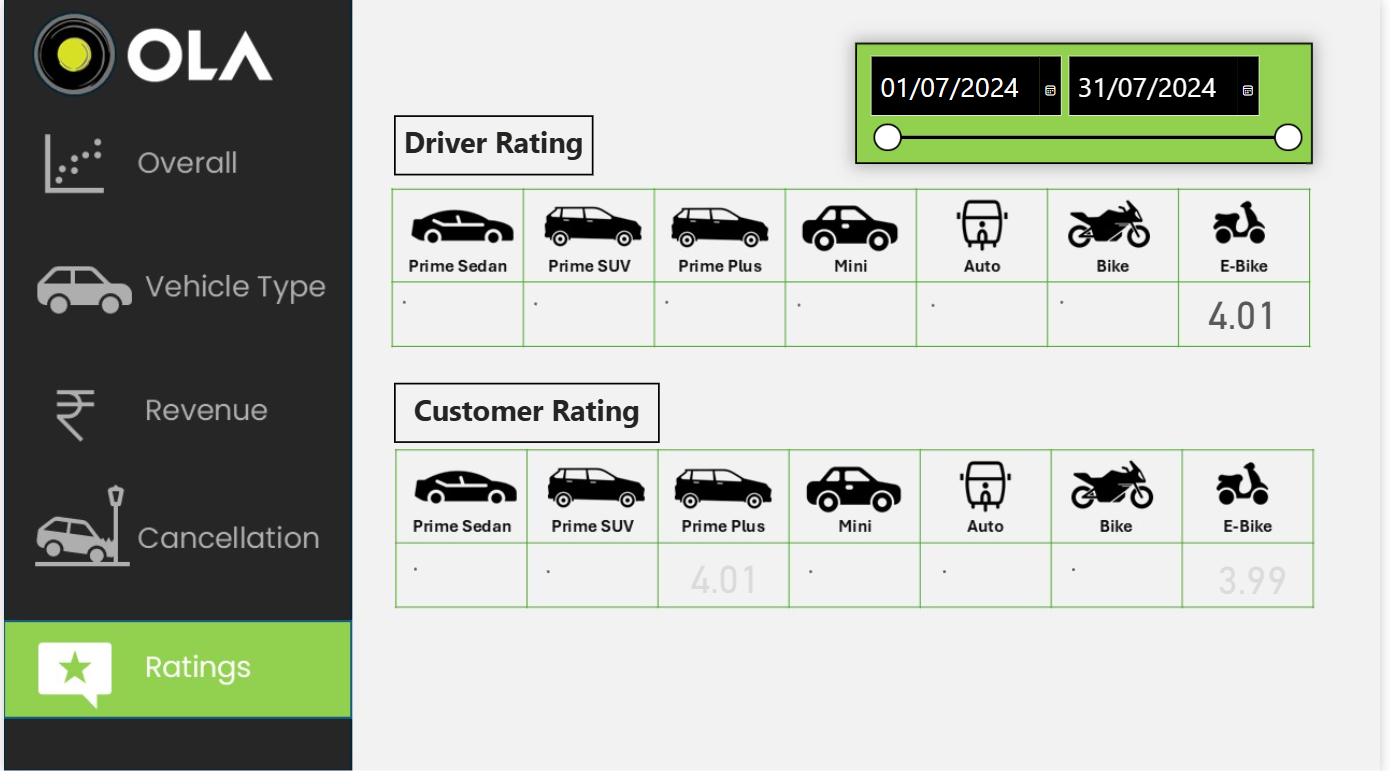

The dashboard page shown, as its layout file describes it:
{"tool":"powerbi","page":{"name":"Ratings","canvas":[1280,720],"ordinal":4},"visuals":[{"type":"actionButton","box":[1.1,108,323.9,92.4],"z":0},{"type":"actionButton","box":[0,221.5,323.9,92.4],"z":1000},{"type":"actionButton","box":[0,338.4,323.9,92.4],"z":2000},{"type":"actionButton","box":[0,447.5,323.9,92.4],"z":3000},{"type":"card","fields":{"Values":["Avg(July.Driver_Ratings)"]},"box":[365,267.6,104.3,45.3],"z":4000},{"type":"card","fields":{"Values":["Avg(July.Driver_Ratings)"]},"box":[487.1,269,104.3,45.3],"z":5000},{"type":"card","fields":{"Values":["Avg(July.Driver_Ratings)"]},"box":[609.3,267.6,104.3,45.3],"z":6000},{"type":"card","fields":{"Values":["Avg(July.Driver_Ratings)"]},"box":[731.4,269,104.3,45.3],"z":7000},{"type":"card","fields":{"Values":["Avg(July.Driver_Ratings)"]},"box":[856.3,269,104.3,45.3],"z":8000},{"type":"card","fields":{"Values":["Avg(July.Driver_Ratings)"]},"box":[977,267.6,104.3,45.3],"z":9000},{"type":"card","fields":{"Values":["Avg(July.Driver_Ratings)"]},"box":[1100.5,269,104.3,45.3],"z":10000},{"type":"card","fields":{"Values":["Avg(July.Customer_Rating)"]},"box":[373.9,513.6,104.3,45.3],"z":10001},{"type":"card","fields":{"Values":["Avg(July.Customer_Rating)"]},"box":[496,515,104.3,45.3],"z":10002},{"type":"card","fields":{"Values":["Avg(July.Customer_Rating)"]},"box":[618.2,513.6,104.3,45.3],"z":10003},{"type":"card","fields":{"Values":["Avg(July.Customer_Rating)"]},"box":[740.3,515,104.3,45.3],"z":10004},{"type":"card","fields":{"Values":["Avg(July.Customer_Rating)"]},"box":[865.2,515,104.3,45.3],"z":10005},{"type":"card","fields":{"Values":["Avg(July.Customer_Rating)"]},"box":[985.9,513.6,104.3,45.3],"z":10006},{"type":"card","fields":{"Values":["Avg(July.Customer_Rating)"]},"box":[1109.4,515,104.3,45.3],"z":10007},{"type":"textbox","box":[362.3,108.4,185.2,56.3],"z":10008},{"type":"textbox","box":[362.3,356.8,247,56.3],"z":10009},{"type":"slicer","title":"Date","fields":{"Values":["July.Date"]},"box":[791.8,41.2,425.4,112.5],"z":10010}]}

Visuals, with their boxes in screenshot pixels (x1, y1, x2, y2), scaled from the page's 1280x720 canvas onto the 1390x771 screenshot:
actionButton: Rect(1, 116, 353, 215)
actionButton: Rect(0, 237, 352, 336)
actionButton: Rect(0, 362, 352, 461)
actionButton: Rect(0, 479, 352, 578)
card - Avg(July.Driver_Ratings): Rect(396, 287, 510, 335)
card - Avg(July.Driver_Ratings): Rect(529, 288, 642, 337)
card - Avg(July.Driver_Ratings): Rect(662, 287, 775, 335)
card - Avg(July.Driver_Ratings): Rect(794, 288, 908, 337)
card - Avg(July.Driver_Ratings): Rect(930, 288, 1043, 337)
card - Avg(July.Driver_Ratings): Rect(1061, 287, 1174, 335)
card - Avg(July.Driver_Ratings): Rect(1195, 288, 1308, 337)
card - Avg(July.Customer_Rating): Rect(406, 550, 519, 598)
card - Avg(July.Customer_Rating): Rect(539, 551, 652, 600)
card - Avg(July.Customer_Rating): Rect(671, 550, 785, 598)
card - Avg(July.Customer_Rating): Rect(804, 551, 917, 600)
card - Avg(July.Customer_Rating): Rect(940, 551, 1053, 600)
card - Avg(July.Customer_Rating): Rect(1071, 550, 1184, 598)
card - Avg(July.Customer_Rating): Rect(1205, 551, 1318, 600)
textbox: Rect(393, 116, 595, 176)
textbox: Rect(393, 382, 662, 442)
"Date" slicer: Rect(860, 44, 1322, 165)
